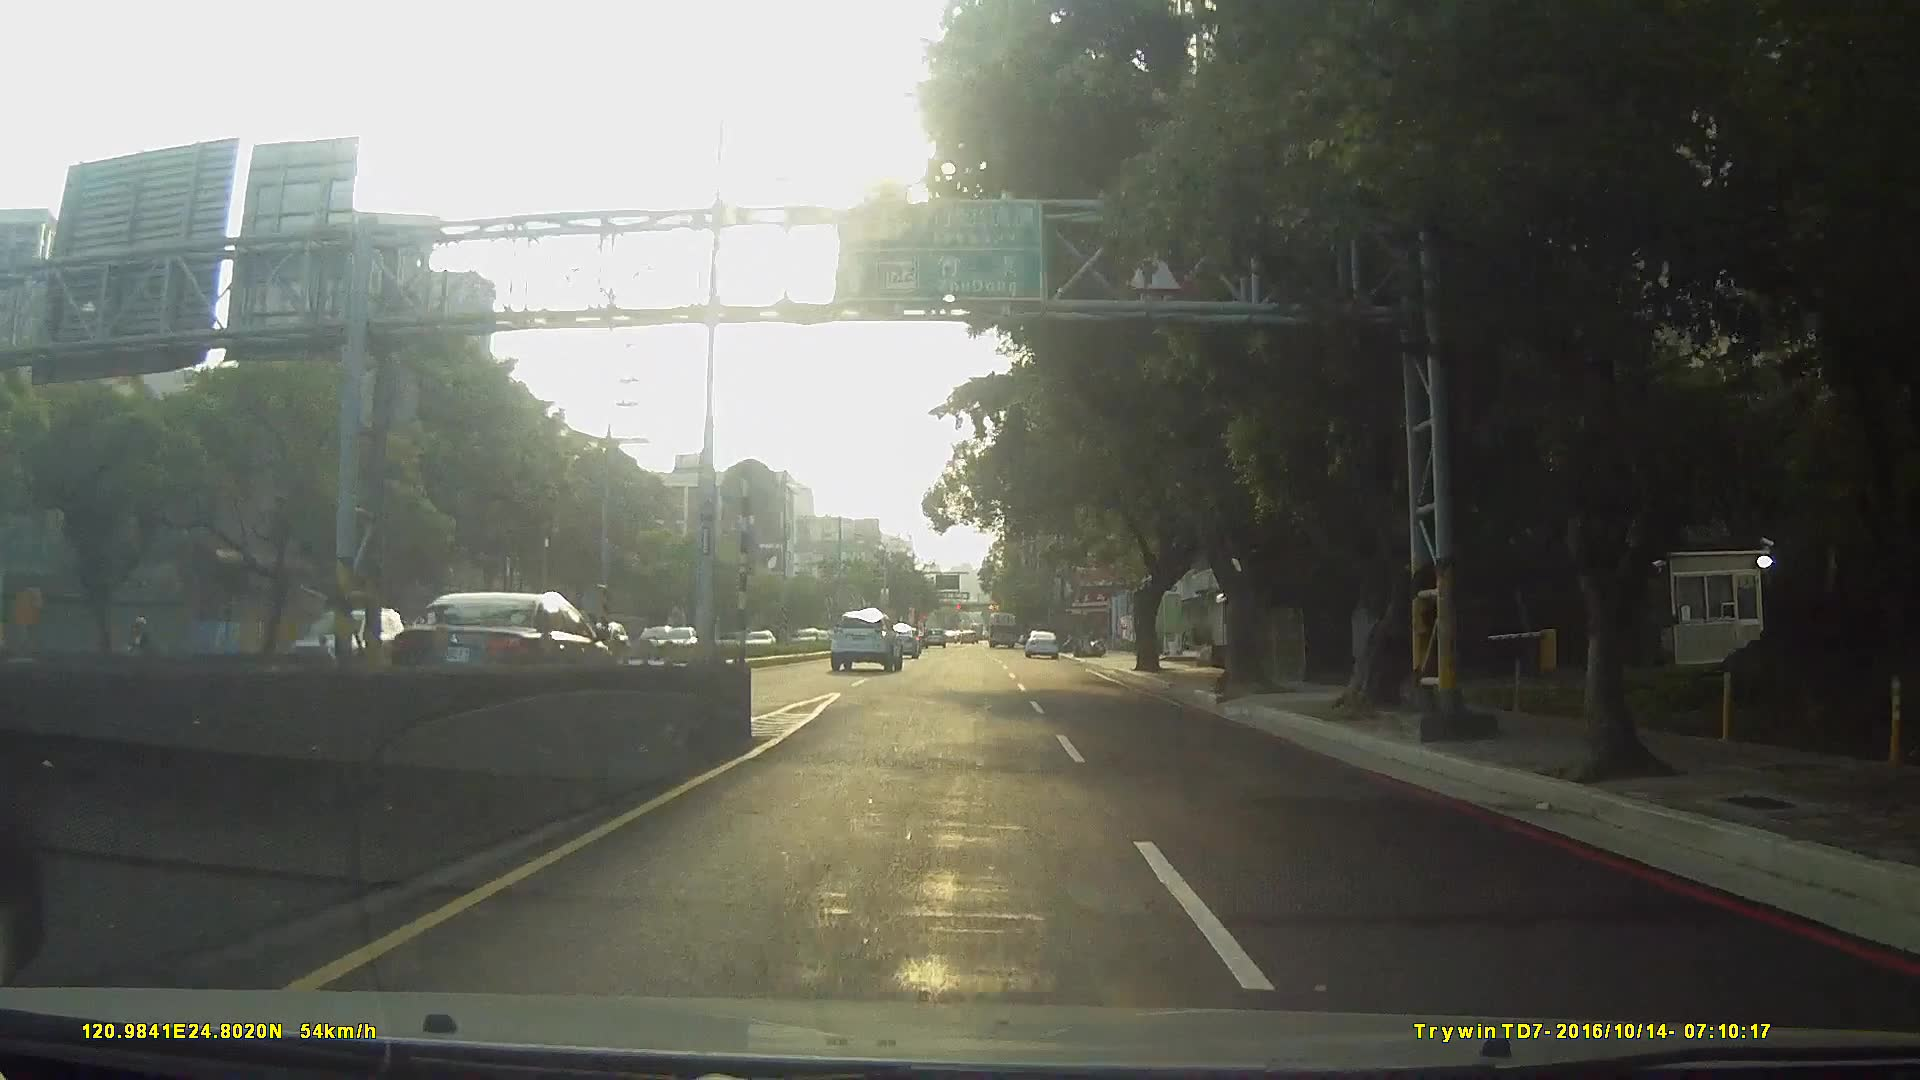vehicle: (386, 588, 621, 699), (827, 608, 903, 673), (881, 625, 920, 659), (986, 611, 1018, 649), (1022, 628, 1060, 658)
